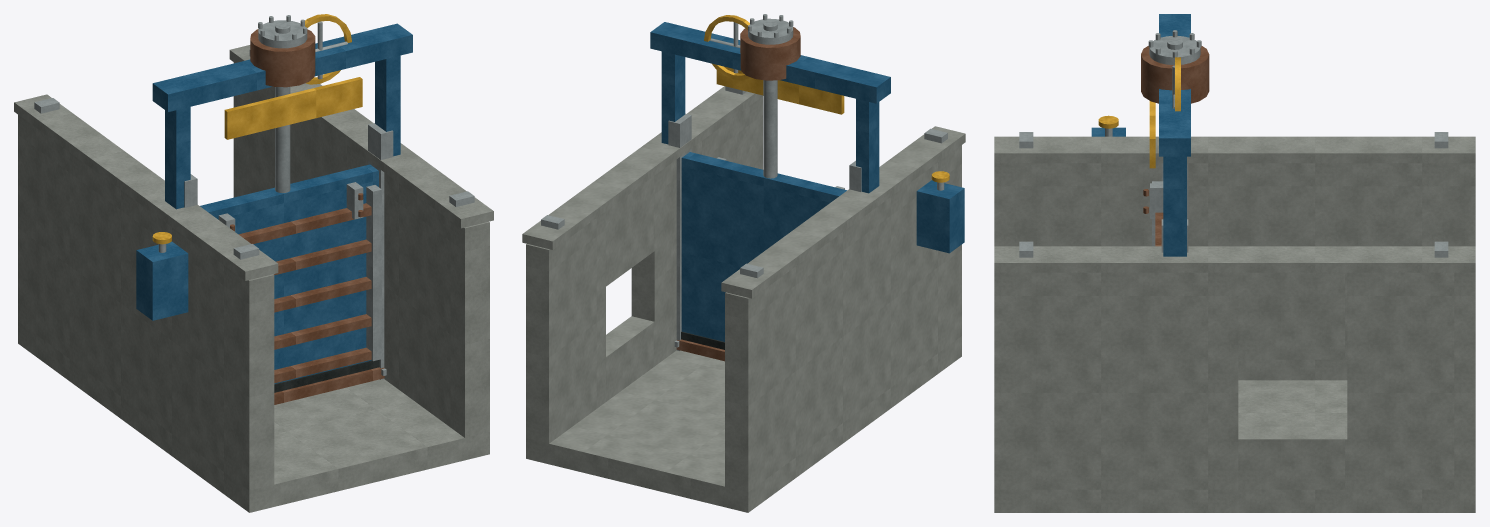
Rendered from PZ_MicroHydro_Sluice_Standalone.glb.
The picture shows the model from 3 angles, left to right: view 1: azimuth 30°, elevation 25°; view 2: azimuth 150°, elevation 25°; view 3: azimuth 270°, elevation 25°; orthographic projection. The views are drawn at different scales.
Parts seen in each view (by area): view 1: Sluice_Left_CanalWall_NODE, Sluice_Floor_4p5m_NODE, Sluice_RightWall_FlowFront_NODE, Gate_Panel_2p1m_NODE, Canal_Coping_-1_NODE, Gantry_LiftingCrossbeam_NODE, Canal_Coping_1_NODE, Sluice_Gantry_Caution_Plate_NODE, Sluice_Control_HandLever_Console_NODE, Sluice_RightWall_FlowRear_NODE, Gantry_HoistGearbox_NODE, Sluice_RightWall_PenstockHeader_NODE (+14 smaller); view 2: Sluice_Left_CanalWall_NODE, Sluice_Floor_4p5m_NODE, Sluice_RightWall_FlowRear_NODE, Gate_Panel_2p1m_NODE, Sluice_RightWall_FlowFront_NODE, Canal_Coping_-1_NODE, Canal_Coping_1_NODE, Gantry_LiftingCrossbeam_NODE, Sluice_RightWall_PenstockHeader_NODE, Sluice_Control_HandLever_Console_NODE, Sluice_RightWall_PenstockSill_NODE, Gantry_HoistGearbox_NODE (+8 smaller); view 3: Sluice_RightWall_FlowFront_NODE, Sluice_Left_CanalWall_NODE, Sluice_RightWall_FlowRear_NODE, Sluice_Floor_4p5m_NODE, Canal_Coping_1_NODE, Canal_Coping_-1_NODE, Sluice_RightWall_PenstockHeader_NODE, Sluice_RightWall_PenstockSill_NODE, Gantry_LiftingCrossbeam_NODE, Gantry_Column_R_NODE, Gantry_HoistGearbox_NODE, Gantry_GearCap_NODE.
Part boxes in pixels (x1,y1,x2,y2): Sluice_Left_CanalWall_NODE: (18, 115, 274, 490); Sluice_Floor_4p5m_NODE: (18, 321, 489, 512); Sluice_RightWall_FlowFront_NODE: (347, 146, 489, 437); Gate_Panel_2p1m_NODE: (200, 164, 378, 383); Canal_Coping_-1_NODE: (14, 94, 278, 280); Gantry_LiftingCrossbeam_NODE: (152, 23, 412, 111); Canal_Coping_1_NODE: (229, 45, 493, 228); Sluice_Gantry_Caution_Plate_NODE: (224, 77, 362, 139); Sluice_Control_HandLever_Console_NODE: (136, 241, 188, 320); Sluice_RightWall_FlowRear_NODE: (233, 62, 295, 197); Gantry_HoistGearbox_NODE: (250, 29, 315, 87); Sluice_RightWall_PenstockHeader_NODE: (295, 119, 347, 182); Sluice_Left_CanalWall_NODE: (725, 145, 961, 492); Sluice_Floor_4p5m_NODE: (526, 336, 961, 512); Sluice_RightWall_FlowRear_NODE: (526, 211, 605, 443); Gate_Panel_2p1m_NODE: (681, 152, 846, 341); Sluice_RightWall_FlowFront_NODE: (631, 96, 762, 365); Canal_Coping_-1_NODE: (721, 126, 965, 298); Canal_Coping_1_NODE: (522, 86, 762, 249); Gantry_LiftingCrossbeam_NODE: (650, 22, 890, 103); Sluice_RightWall_PenstockHeader_NODE: (606, 176, 654, 286); Sluice_Control_HandLever_Console_NODE: (916, 180, 964, 253); Sluice_RightWall_PenstockSill_NODE: (606, 316, 654, 401); Gantry_HoistGearbox_NODE: (740, 27, 800, 80); Sluice_RightWall_FlowFront_NODE: (994, 272, 1238, 489); Sluice_Left_CanalWall_NODE: (994, 163, 1475, 380); Sluice_RightWall_FlowRear_NODE: (1347, 272, 1475, 489); Sluice_Floor_4p5m_NODE: (994, 380, 1475, 512); Canal_Coping_1_NODE: (994, 246, 1475, 272); Canal_Coping_-1_NODE: (994, 136, 1475, 163); Sluice_RightWall_PenstockHeader_NODE: (1238, 272, 1347, 359); Sluice_RightWall_PenstockSill_NODE: (1238, 426, 1347, 489); Gantry_LiftingCrossbeam_NODE: (1159, 14, 1190, 156); Gantry_Column_R_NODE: (1163, 156, 1186, 256); Gantry_HoistGearbox_NODE: (1141, 46, 1209, 103); Gantry_GearCap_NODE: (1149, 36, 1200, 65).
Size of the model in its own units: 3.31 by 4.23 by 4.5.
Materials: 6 (6 with a texture image).
